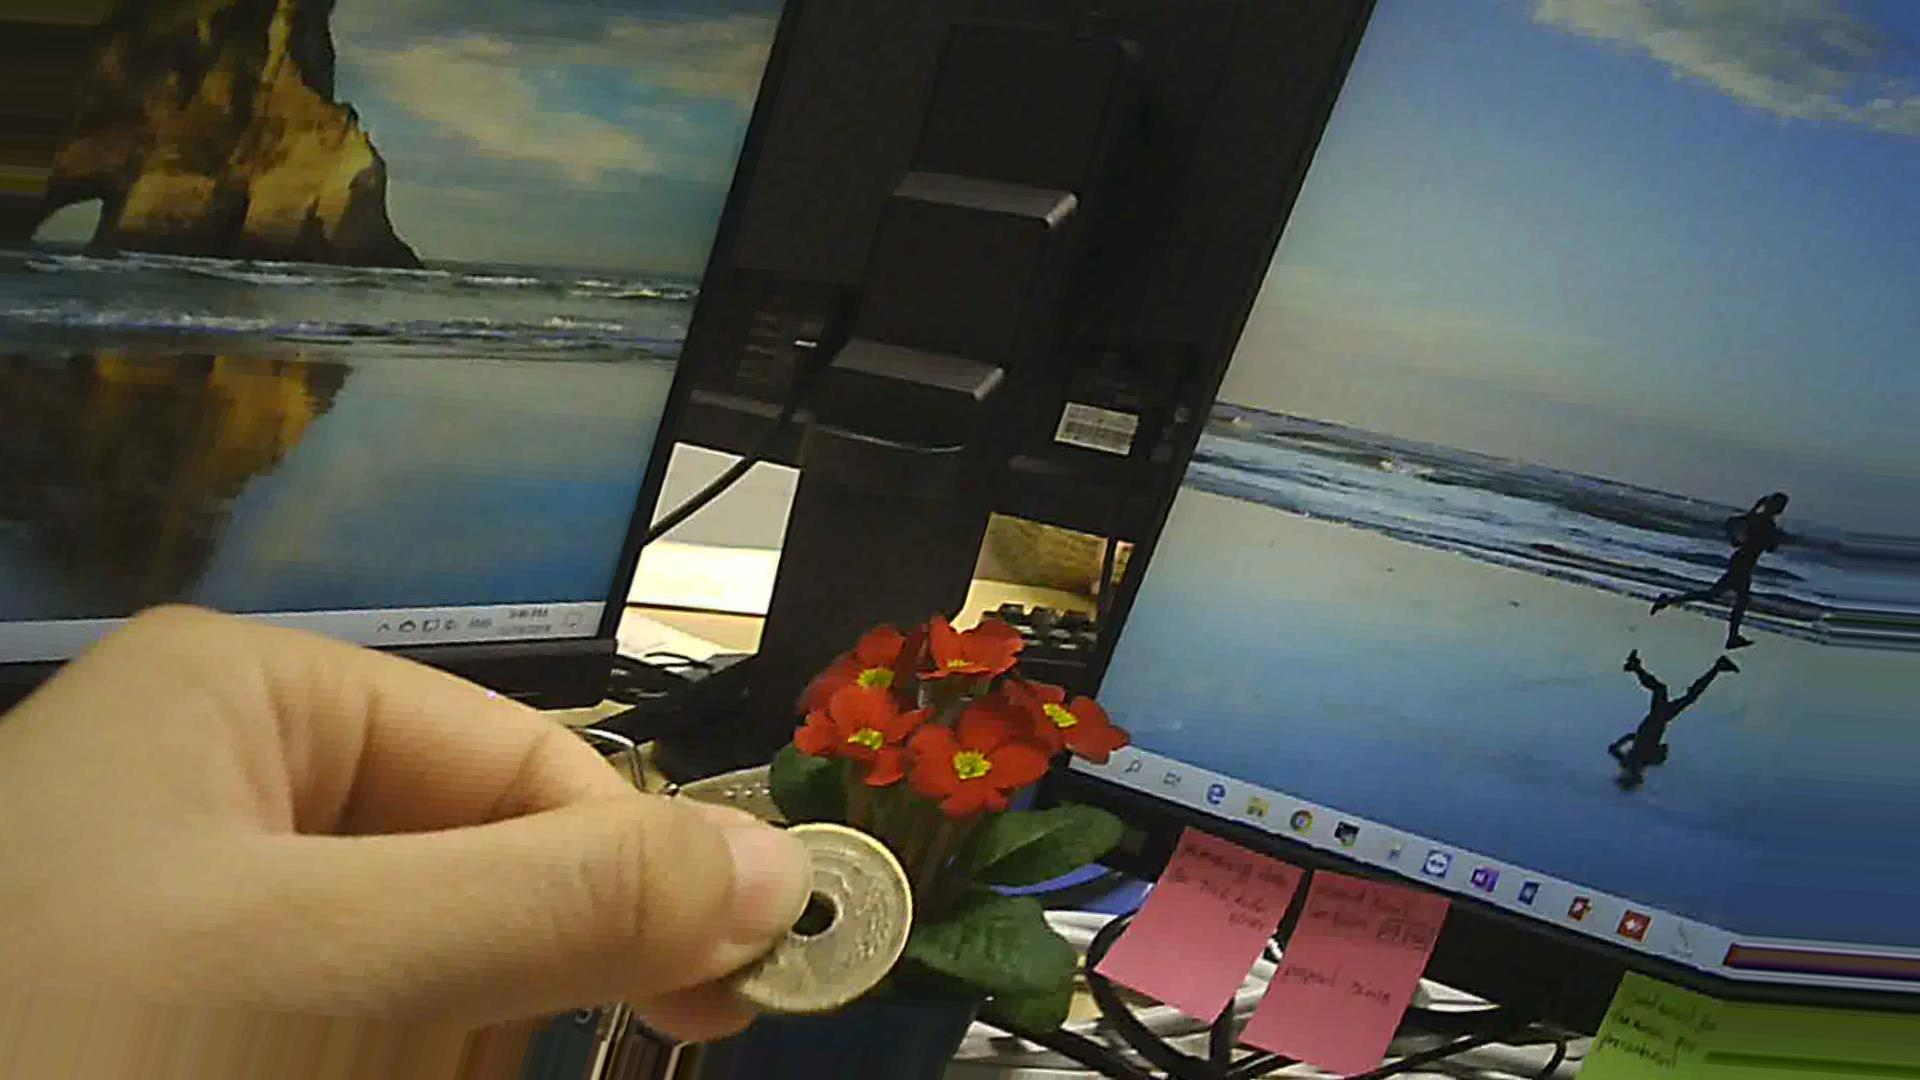5 Yen: (698, 822, 922, 1002)
